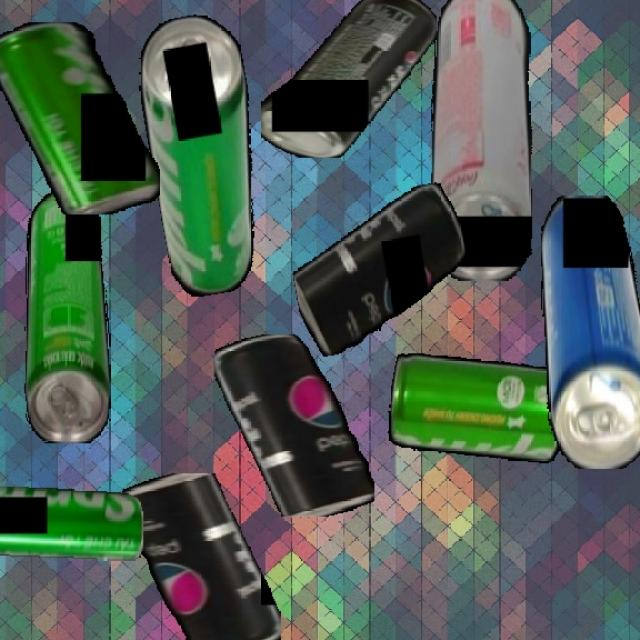debris: (129, 9, 281, 300), (282, 180, 479, 359), (0, 21, 160, 215), (214, 333, 374, 517), (429, 0, 532, 281), (259, 0, 437, 158), (540, 194, 640, 469), (121, 473, 280, 640), (382, 341, 574, 475), (23, 189, 110, 443), (0, 485, 143, 560)
